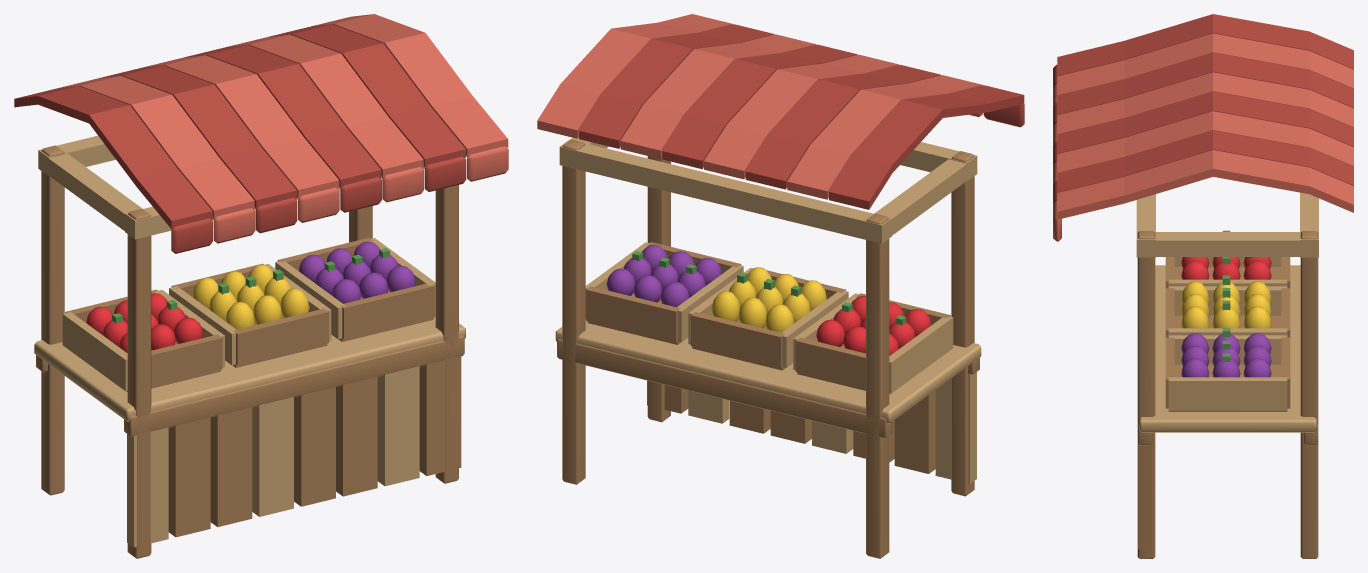
Rendered from market_stall.glb.
The picture shows the model from 3 angles, left to right: view 1: azimuth 30°, elevation 25°; view 2: azimuth 150°, elevation 25°; view 3: azimuth 270°, elevation 25°; orthographic projection. The views are drawn at different scales.
Visible parts, largest first — view 1: Market counter top, Canvas stripe_00, Canvas stripe_07, Canvas stripe_02, Canvas stripe_03, Canvas stripe_01, Canvas stripe_04, Canvas stripe_06, Canvas stripe_05, Market corner post.001, Counter long edge, Market corner post (+33 smaller); view 2: Market counter top, Cross canopy rail.001, Canvas stripe_00, Market corner post.001, Market corner post.003, Counter long edge.001, Canvas stripe_05, Canvas stripe_02, Canvas stripe_07, Canvas stripe_01, Canvas stripe_06, Canvas stripe_04 (+26 smaller); view 3: Canvas stripe_07, Market counter top, Canvas stripe_03, Canvas stripe_06, Canvas stripe_00, Canvas stripe_02, Canvas stripe_04, Canvas stripe_05, Canvas stripe_01, Market corner post.003, Market corner post.002, Produce crate side.005 (+24 smaller).
Part boxes in pixels (x1,y1,x2,y2): Market counter top: [34, 316, 465, 421]; Canvas stripe_00: [14, 86, 212, 229]; Canvas stripe_07: [311, 14, 508, 157]; Canvas stripe_02: [99, 65, 296, 208]; Canvas stripe_03: [141, 55, 339, 198]; Canvas stripe_01: [57, 76, 254, 218]; Canvas stripe_04: [184, 45, 381, 188]; Canvas stripe_06: [268, 24, 465, 167]; Canvas stripe_05: [226, 34, 423, 177]; Market corner post.001: [41, 145, 64, 495]; Counter long edge: [124, 336, 464, 436]; Market corner post: [127, 209, 151, 558]; Market counter top: [555, 319, 981, 423]; Cross canopy rail.001: [559, 139, 891, 243]; Canvas stripe_00: [829, 85, 1024, 209]; Market corner post.001: [866, 213, 889, 558]; Market corner post.003: [562, 139, 585, 484]; Counter long edge.001: [557, 339, 892, 438]; Canvas stripe_05: [620, 34, 815, 158]; Canvas stripe_02: [745, 65, 940, 189]; Canvas stripe_07: [537, 14, 732, 138]; Canvas stripe_01: [787, 75, 982, 199]; Canvas stripe_06: [579, 24, 774, 148]; Canvas stripe_04: [662, 44, 857, 169]; Canvas stripe_07: [1057, 150, 1353, 219]; Market counter top: [1139, 265, 1316, 432]; Canvas stripe_03: [1057, 72, 1353, 134]; Canvas stripe_06: [1057, 130, 1353, 192]; Canvas stripe_00: [1057, 14, 1353, 76]; Canvas stripe_02: [1057, 53, 1353, 115]; Canvas stripe_04: [1057, 91, 1353, 153]; Canvas stripe_05: [1057, 111, 1353, 173]; Canvas stripe_01: [1057, 33, 1353, 95]; Market corner post.003: [1300, 231, 1318, 558]; Market corner post.002: [1137, 231, 1155, 558]; Produce crate side.005: [1168, 377, 1287, 410].
Bounding box in the file's own units: 2.5 × 2.93 × 2.03.
